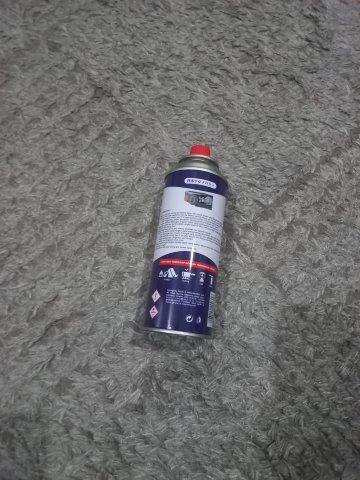kaleng: (141, 145, 229, 340)
